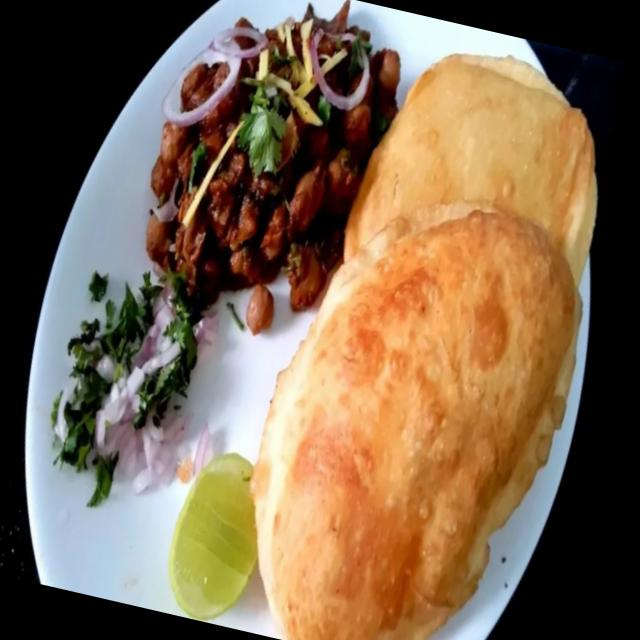Bhatura: (217, 17, 640, 640)
Chole: (119, 0, 412, 351)
